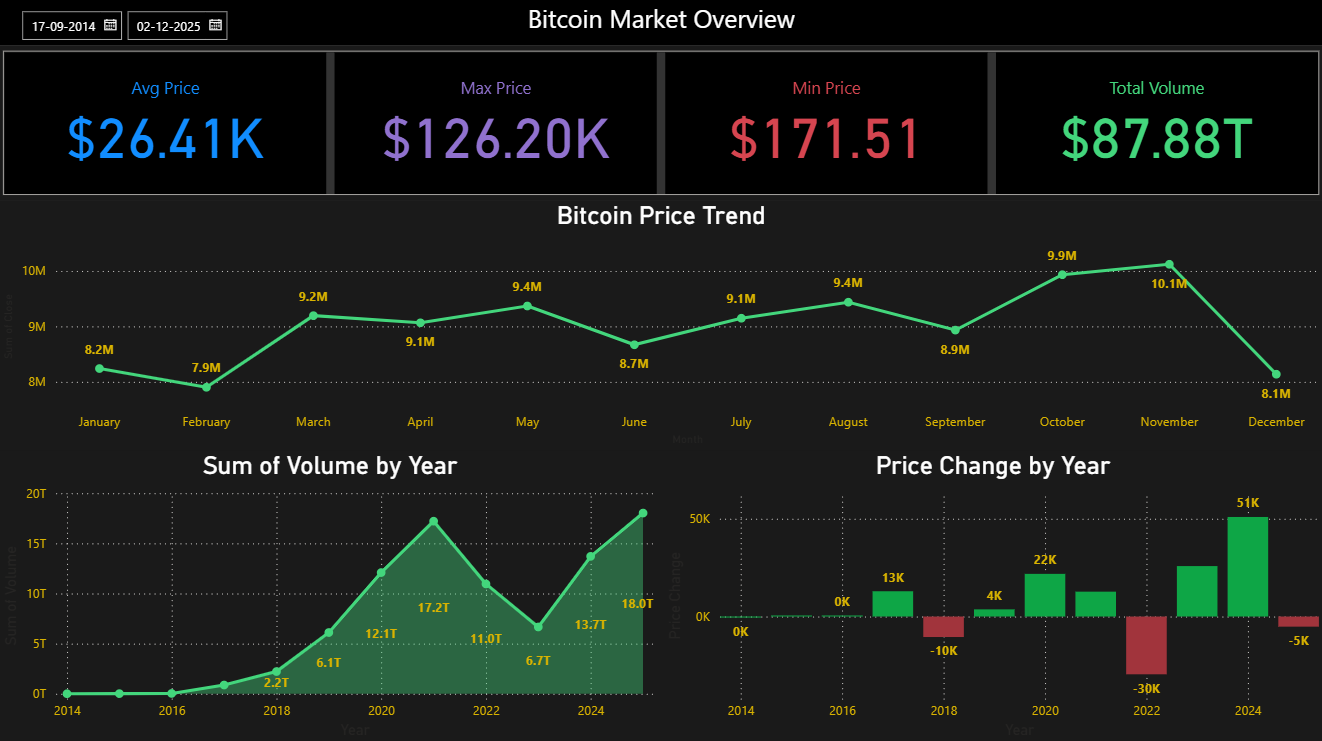

This screenshot's page, from the dashboard's own definition file:
{"tool":"powerbi","page":{"name":"Overview","canvas":[1280,720],"ordinal":0},"visuals":[{"type":"textbox","box":[0,0,1280.3,46.7],"z":0},{"type":"cardVisual","fields":{"Data":["DAX.Avg Price","DAX.Max Price","DAX.Min Price","DAX.Total Volume"]},"box":[0,47.1,1280,149.6],"z":1000},{"type":"lineChart","title":"Bitcoin Price Trend","fields":{"Category":["Bitcoin.Date.Variation.Date Hierarchy.Month"],"Y":["Sum(Bitcoin.Close)"]},"box":[0,196.2,1280.3,241.5],"z":2000},{"type":"stackedAreaChart","fields":{"Category":["Bitcoin.Date.Variation.Date Hierarchy.Year","Bitcoin.Date.Variation.Date Hierarchy.Quarter","Bitcoin.Date.Variation.Date Hierarchy.Month","Bitcoin.Date.Variation.Date Hierarchy.Day"],"Y":["Sum(Bitcoin.Volume)"]},"box":[0,437.7,640.8,282.7],"z":3000},{"type":"slicer","fields":{"Values":["Bitcoin.Date"]},"box":[11,4.1,220.9,42.5],"z":4000},{"type":"columnChart","fields":{"Category":["Bitcoin.Date.Variation.Date Hierarchy.Year","Bitcoin.Date.Variation.Date Hierarchy.Quarter","Bitcoin.Date.Variation.Date Hierarchy.Month","Bitcoin.Date.Variation.Date Hierarchy.Day"],"Y":["DAX.Price Change"]},"box":[640.8,437.7,639.5,282.7],"z":5000}]}

Visuals, with their boxes in screenshot pixels (x1, y1, x2, y2), scaled from the page's 1280x720 canvas onto the 1322x741 screenshot:
textbox: (left=0, top=0, right=1321, bottom=48)
cardVisual - DAX.Avg Price x DAX.Max Price: (left=0, top=48, right=1321, bottom=202)
"Bitcoin Price Trend" lineChart: (left=0, top=202, right=1321, bottom=450)
stackedAreaChart - Bitcoin.Date.Variation.Date Hierarchy.Year x Bitcoin.Date.Variation.Date Hierarchy.Quarter: (left=0, top=450, right=662, bottom=740)
slicer - Bitcoin.Date: (left=11, top=4, right=240, bottom=48)
columnChart - Bitcoin.Date.Variation.Date Hierarchy.Year x Bitcoin.Date.Variation.Date Hierarchy.Quarter: (left=662, top=450, right=1321, bottom=740)
